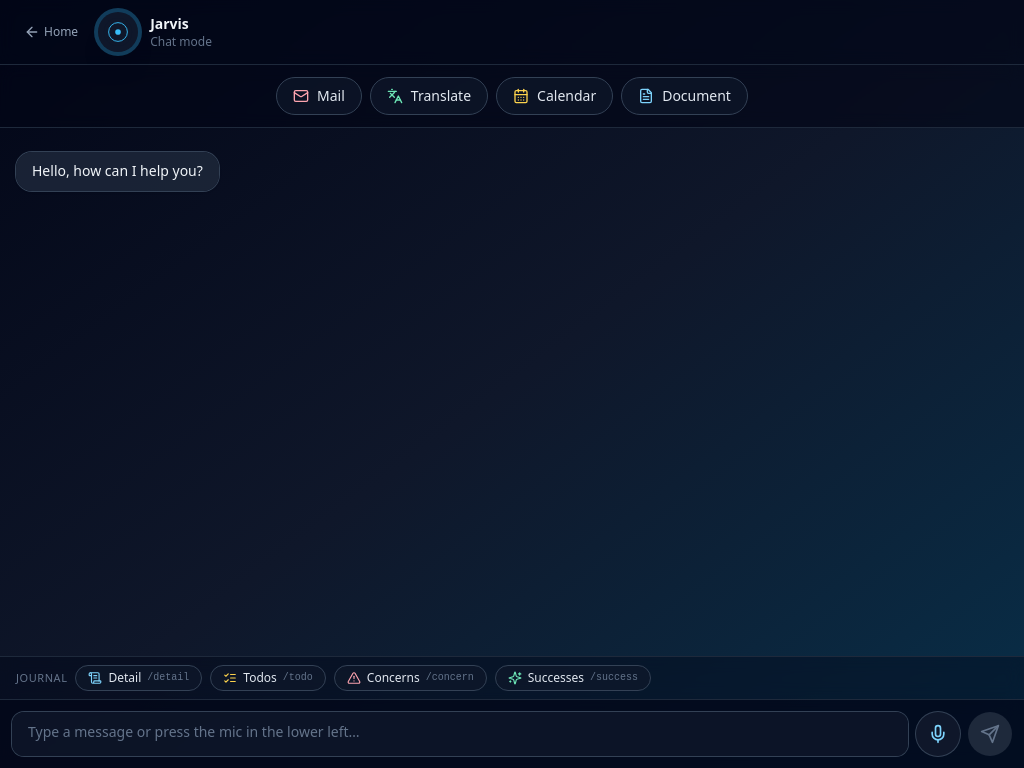
Test: ChatScreen › shows network error when sendChat throws
In the text box with test id "chat-input": coordinates (460, 734) [12,712,908,756], type "ping"
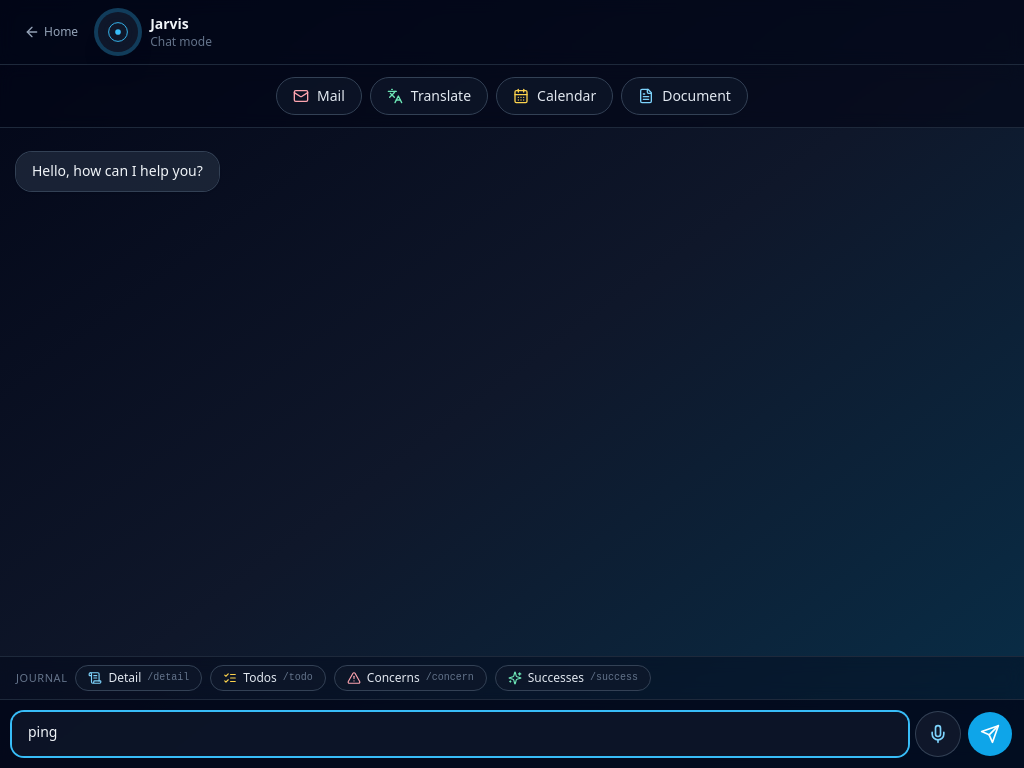
Click the button with test id "send-button": coordinates (990, 734) [968,712,1012,756]
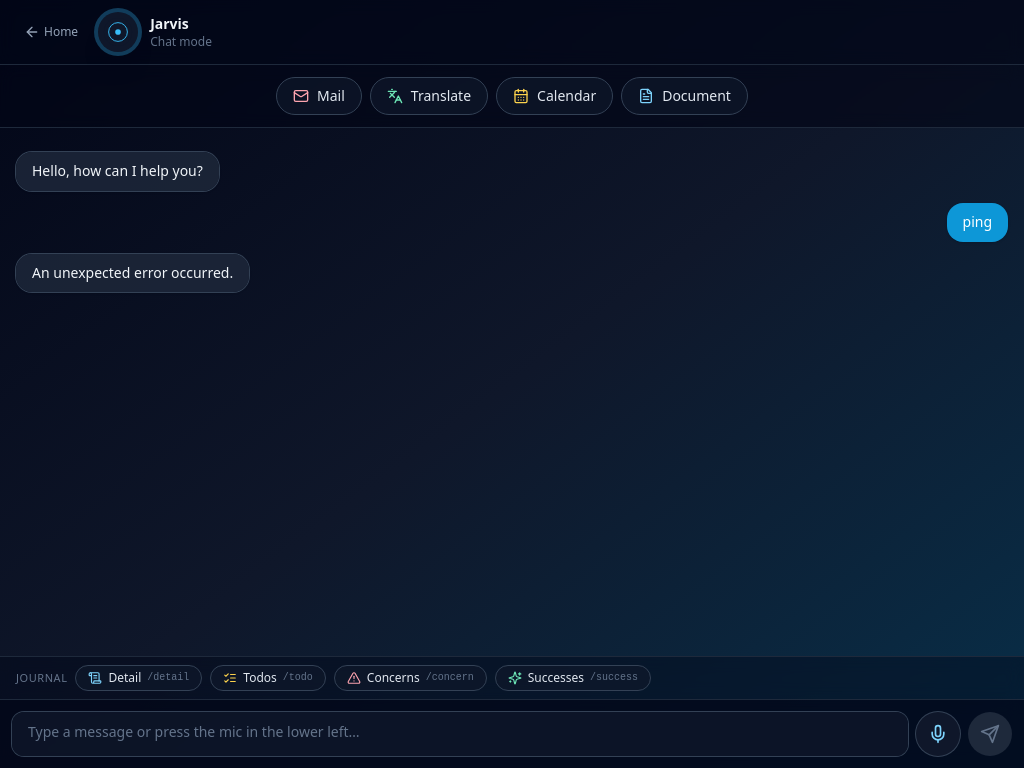
Check: the text "An unexpected error occurred." is shown, box [32,262,233,284]
